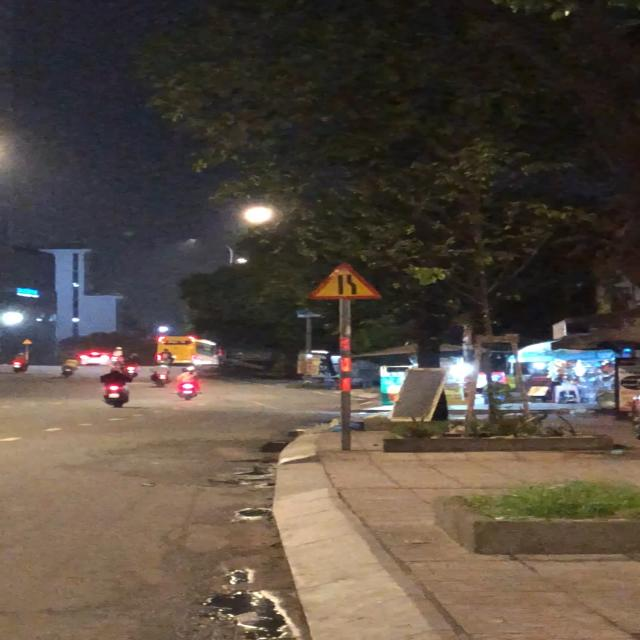Bien bao duong bi thu hep: (305, 260, 387, 303)
